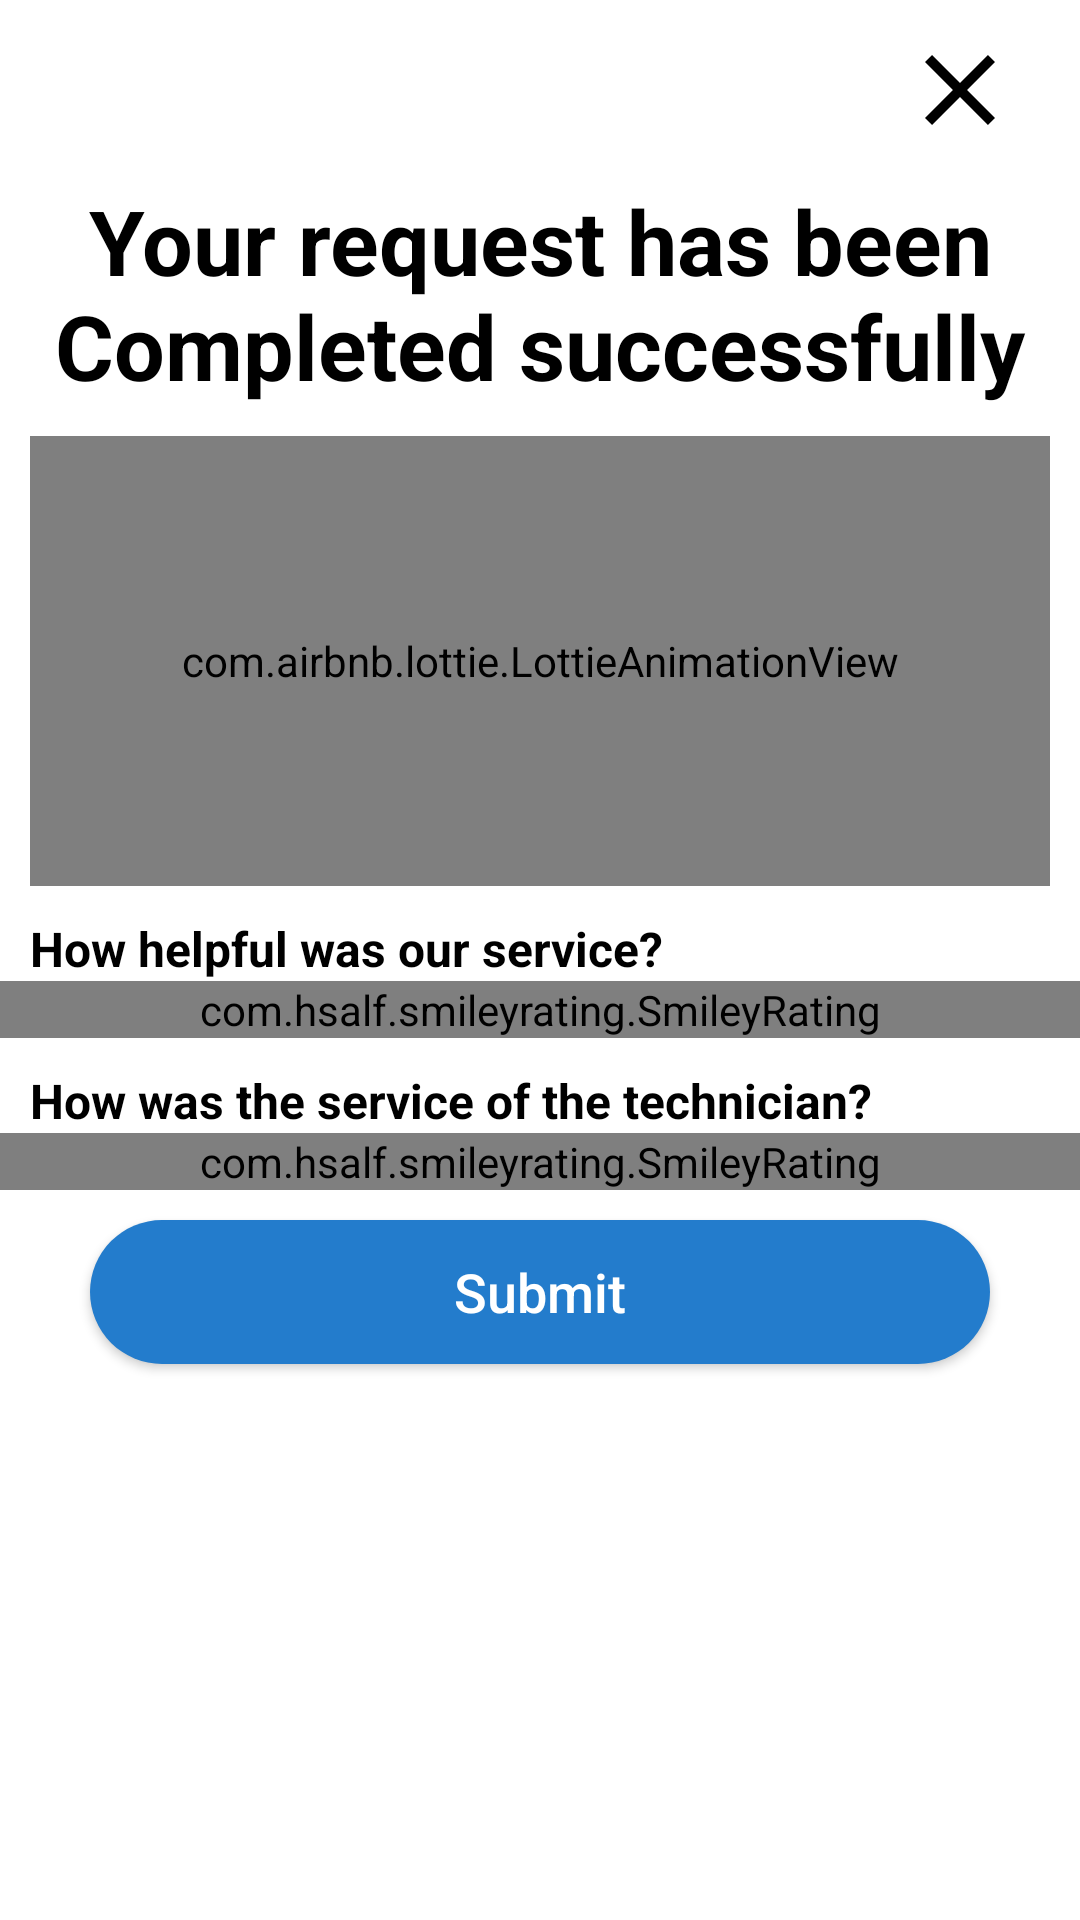

Icons on this 1080×1920 Android screen, each with the point to tap as point (x, y):
close 40black: point (960, 90)
